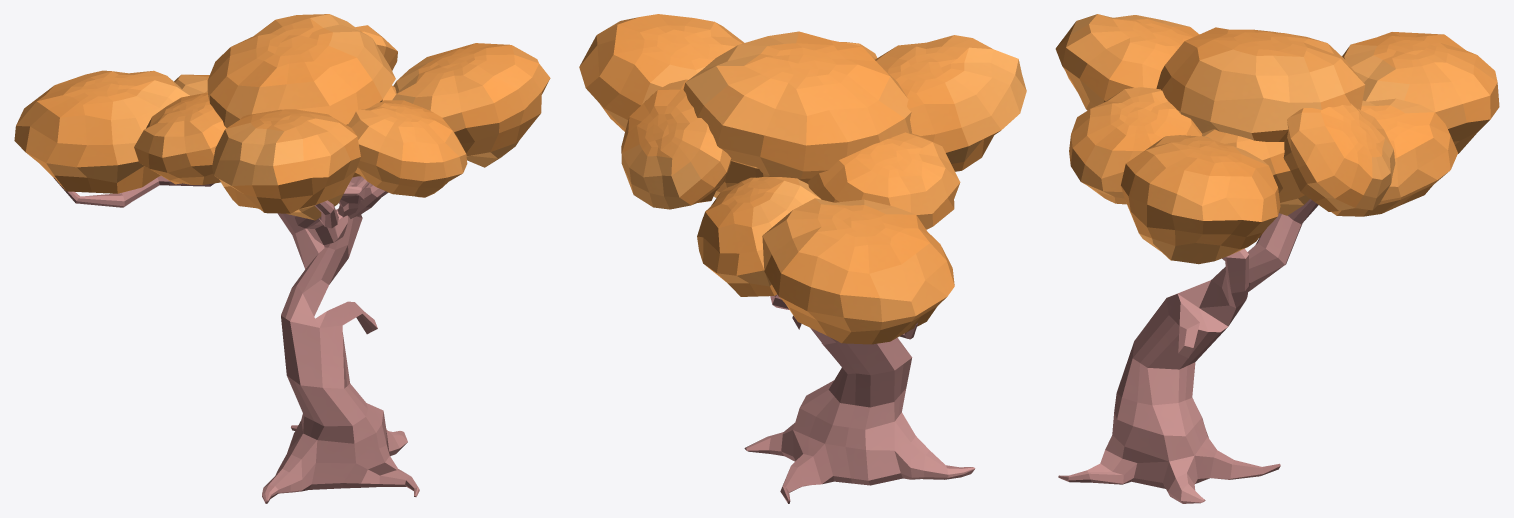
Rendered from tree_2_c.glb.
3 renders of one model, left to right at view 1: azimuth 30°, elevation 25°; view 2: azimuth 150°, elevation 25°; view 3: azimuth 270°, elevation 25°, orthographic. The views are drawn at different scales.
Parts seen in each view (by area): view 1: crown_2_c, trunk_2_c; view 2: crown_2_c, trunk_2_c; view 3: crown_2_c, trunk_2_c.
Part boxes in pixels (box(x1,y1,x2,y2)): crown_2_c: box(14, 14, 550, 220); trunk_2_c: box(53, 176, 419, 503); crown_2_c: box(579, 14, 1026, 344); trunk_2_c: box(744, 294, 975, 503); crown_2_c: box(1055, 14, 1499, 264); trunk_2_c: box(1058, 199, 1318, 503).
Bounding box in the file's own units: 4.75 × 4.32 × 4.05.
1 material, 1 textured.
